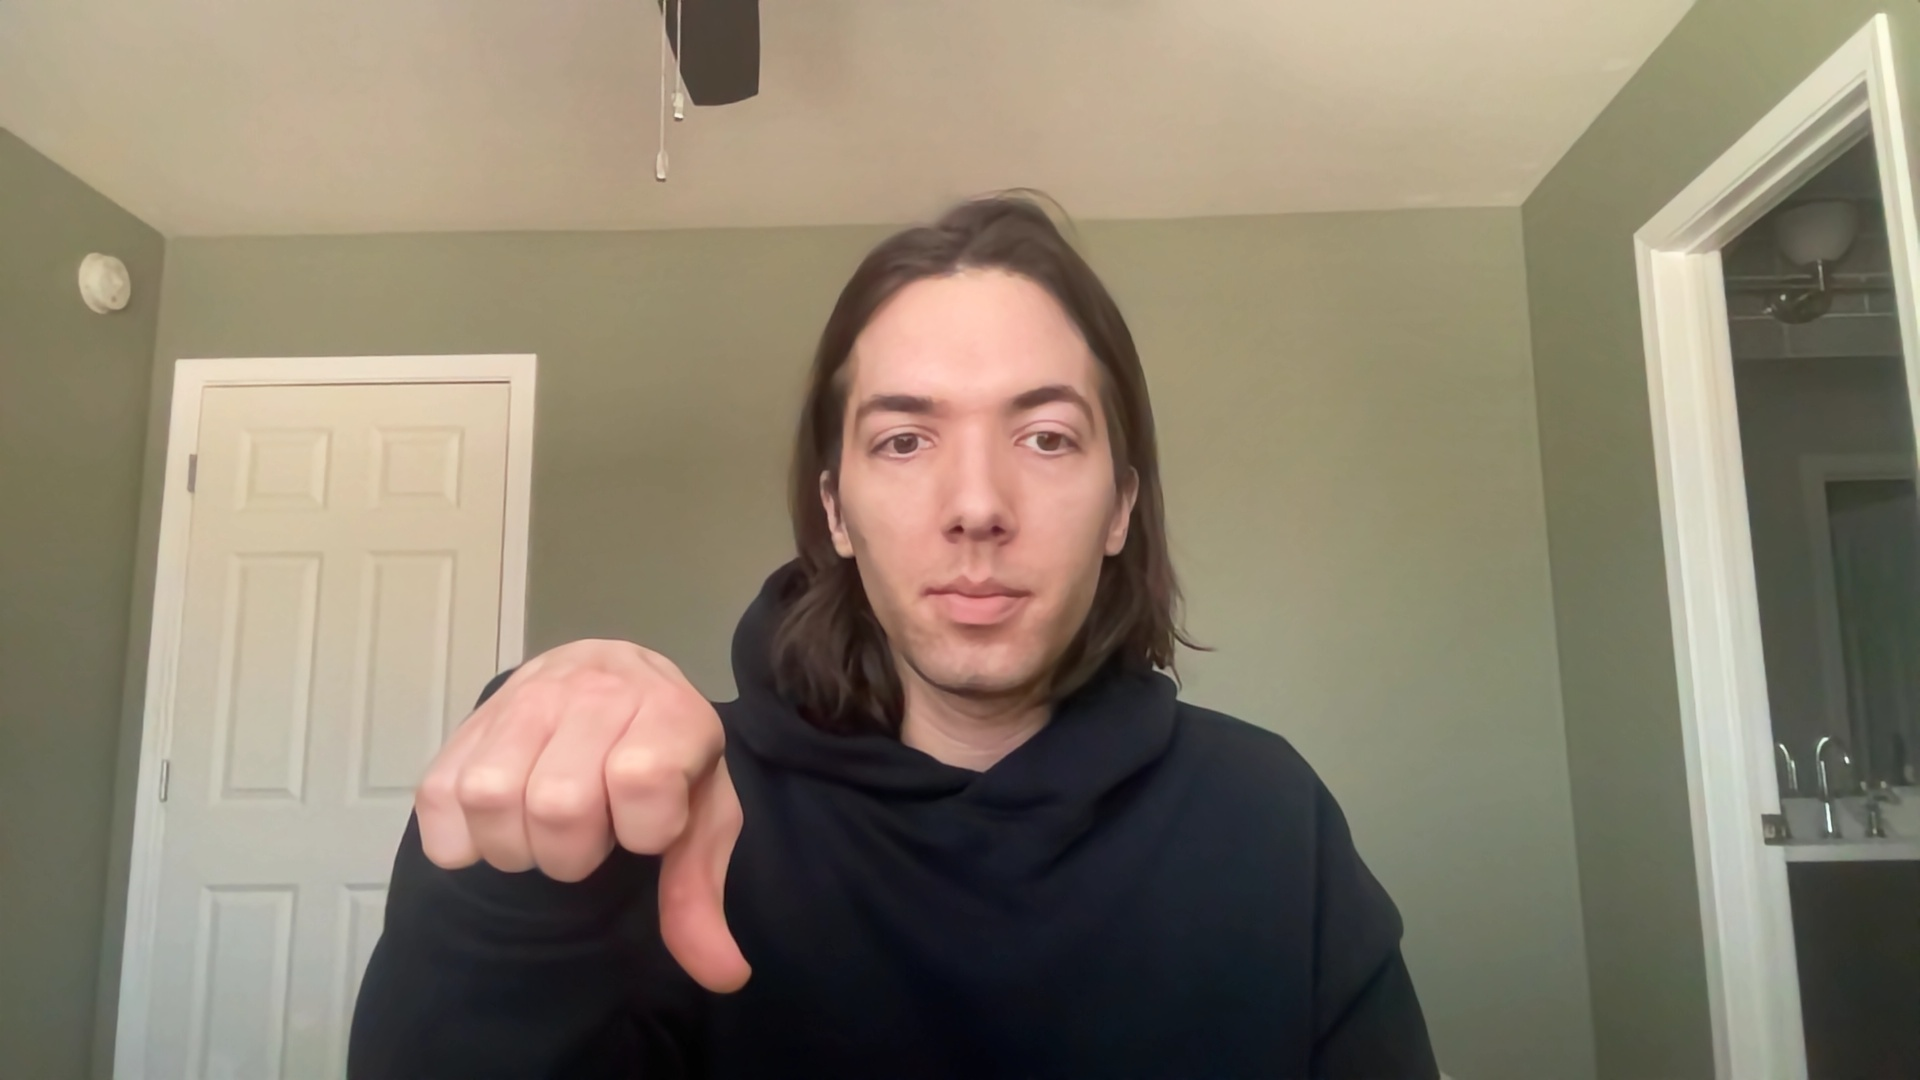Yes: (375, 613, 796, 1019)
